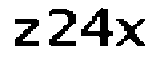2: (46, 6, 79, 51)
4: (79, 5, 115, 50)
x: (116, 16, 147, 52)
z: (9, 14, 43, 53)
